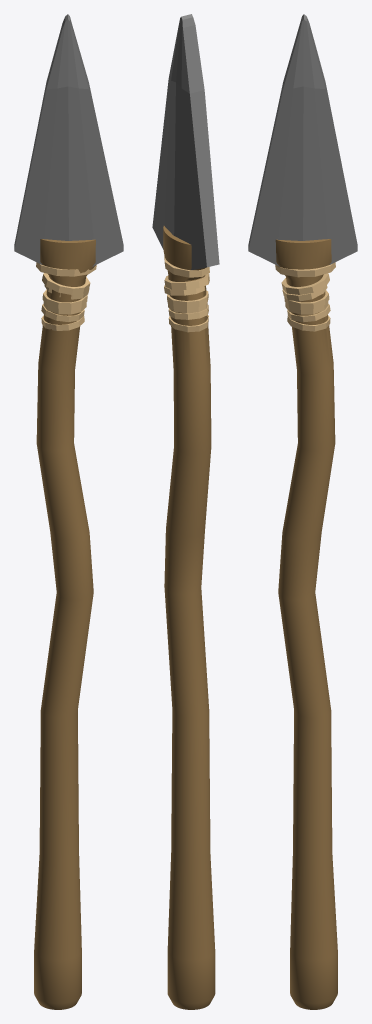
The model's file is spear.glb.
3 views of the same model, side by side, from view 1: azimuth 90°, elevation 25°; view 2: azimuth 210°, elevation 25°; view 3: azimuth 270°, elevation 25° (orthographic).
Parts seen in each view (by area): view 1: Cylinder.091; view 2: Cylinder.091; view 3: Cylinder.091.
Part boxes in pixels (x1,y1,x2,y2): Cylinder.091: (14, 14, 123, 1009); Cylinder.091: (152, 14, 219, 1009); Cylinder.091: (248, 14, 357, 1009).
Bounding box in the file's own units: 0.0921 × 2.1 × 0.2109.
